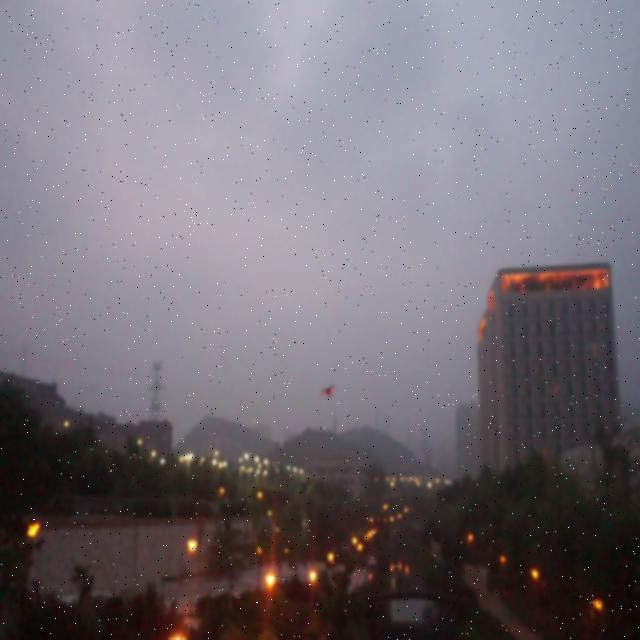UAV: (322, 383, 335, 399)
